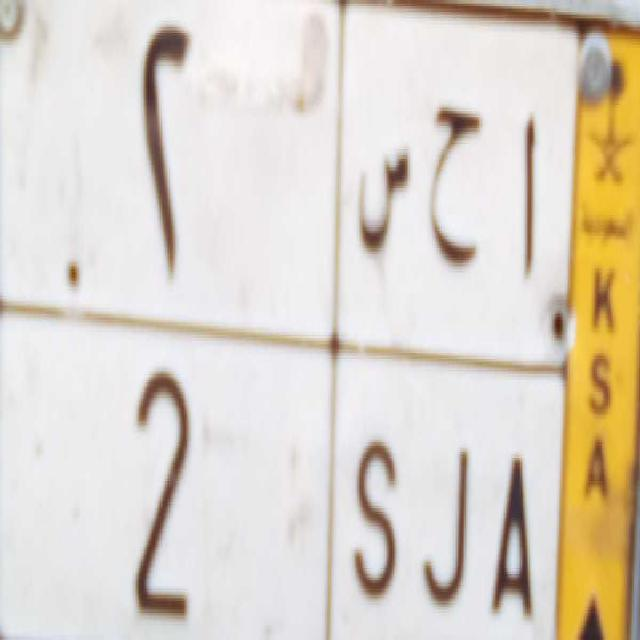license_plate: (39, 313, 554, 640)
